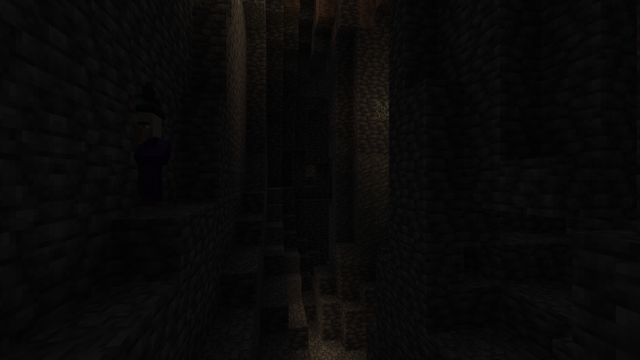sorcieres: (134, 107, 166, 213)
